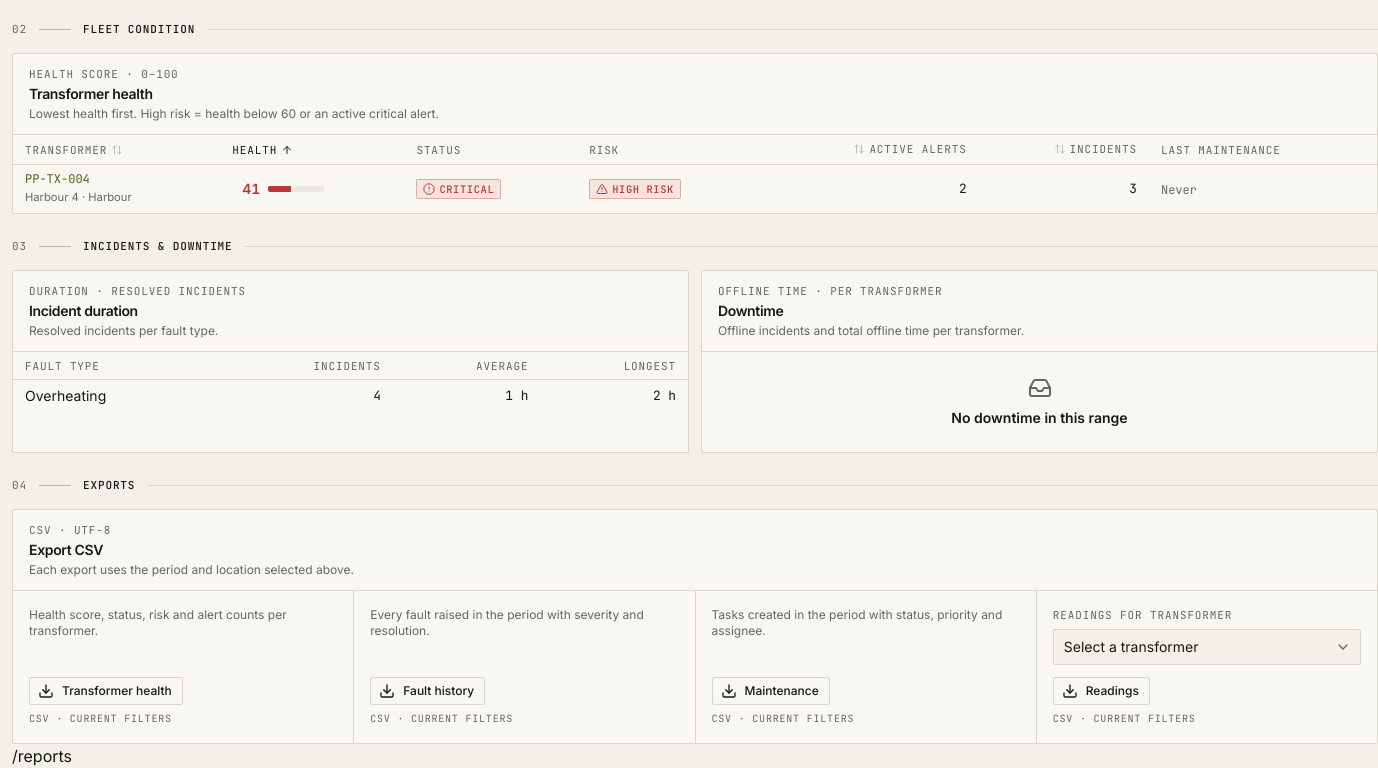
Test: ReportsPage › shows an error toast when an export fails
The image size is (1378, 768).
(page scrolled)
Step 1. Click the button "Fault history" → (428, 691), box [370,677,485,705]
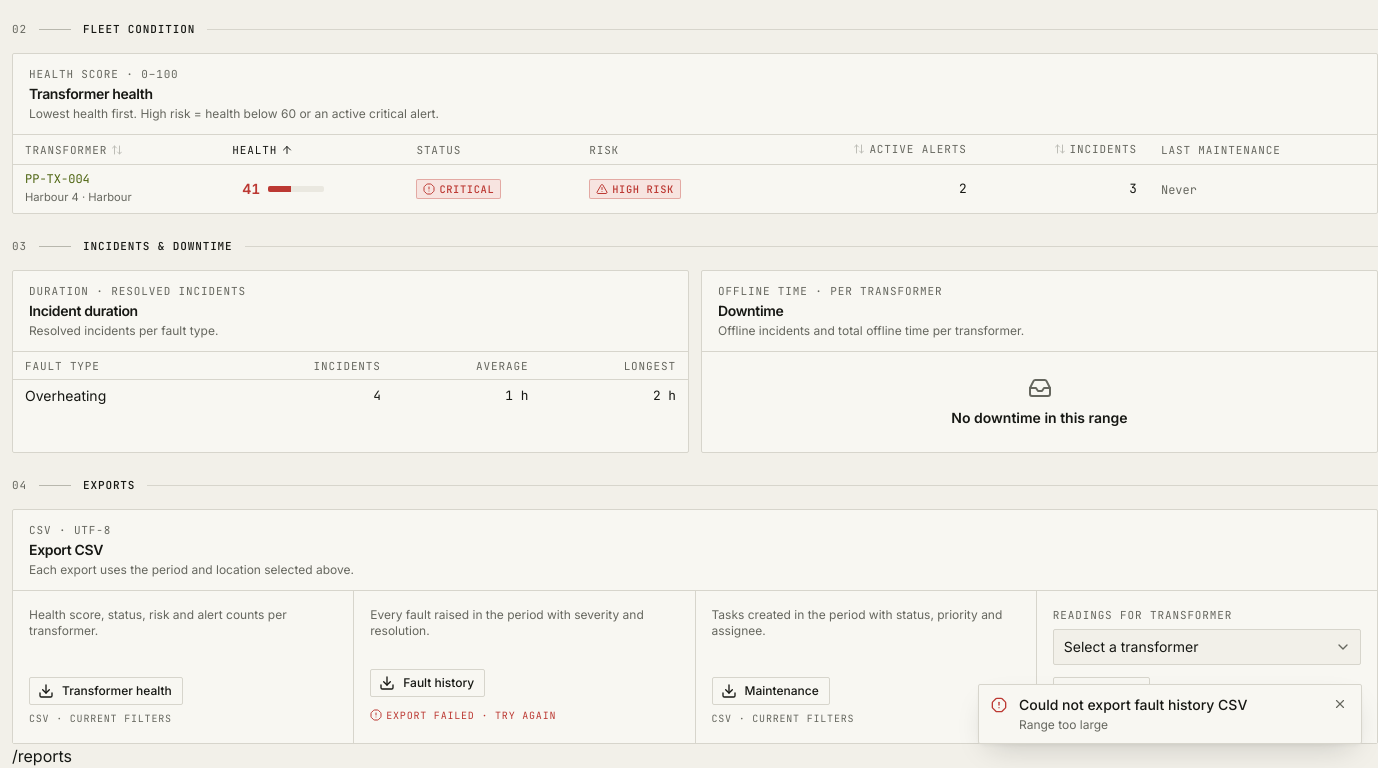
Check: the text "Range too large" is shown, box [1019,717,1108,732]
